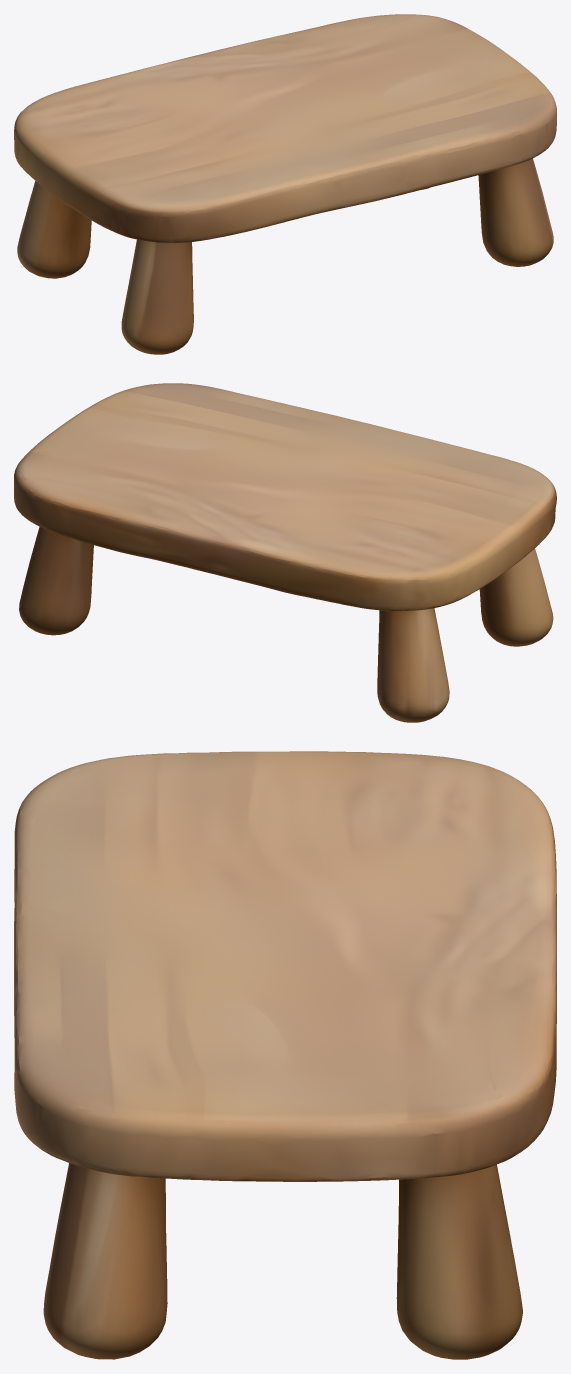
Rendered from table.glb.
3 views of the same model, one above another, from view 1: azimuth 30°, elevation 25°; view 2: azimuth 150°, elevation 25°; view 3: azimuth 270°, elevation 25° (orthographic). The views are drawn at different scales.
Parts seen in each view (by area): view 1: model; view 2: model; view 3: model.
Part boxes in pixels (bbox=[...]): model: bbox=[14, 14, 556, 354]; model: bbox=[14, 383, 556, 722]; model: bbox=[14, 751, 556, 1359].
Bounding box in the file's own units: 1.82 × 0.607 × 1.1.
1 material, 1 textured.
